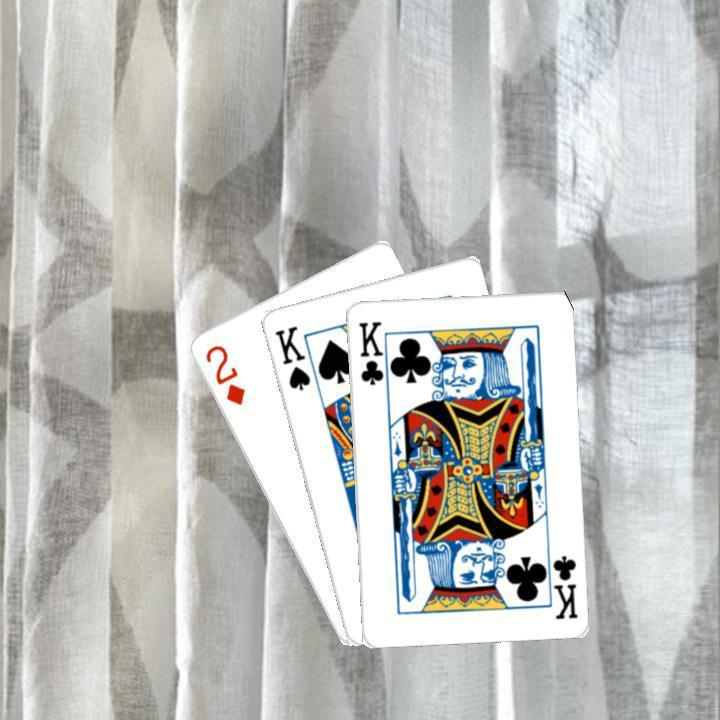2: (200, 340, 247, 408)
K: (269, 321, 312, 393), (540, 544, 579, 620), (354, 317, 391, 393)
